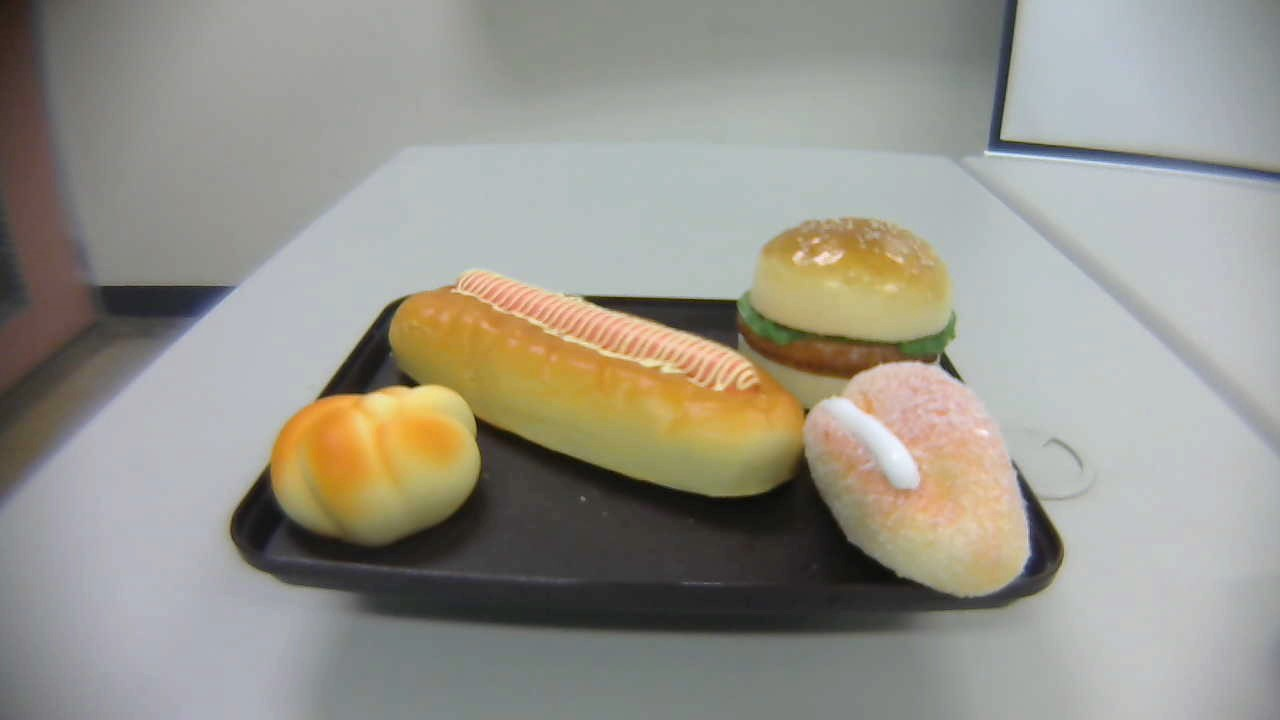coconut: (803, 361, 1029, 602)
hamburger: (738, 216, 955, 413)
hot dog: (387, 267, 804, 500)
twist bread: (270, 381, 482, 550)
